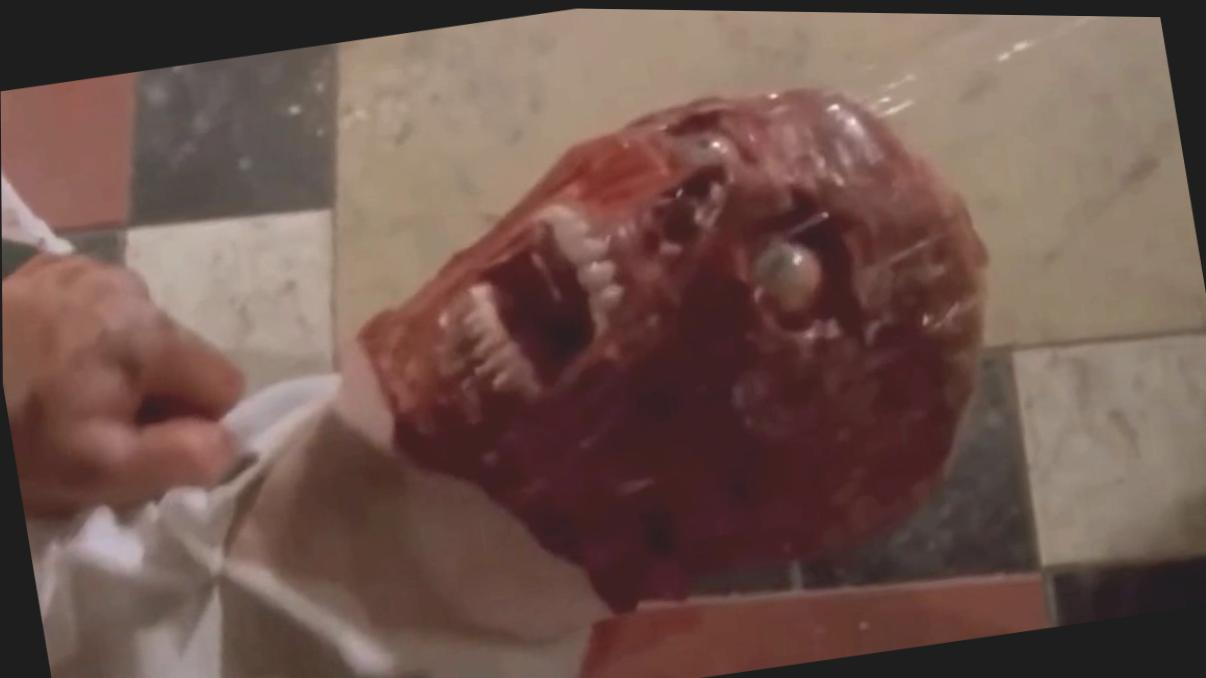Fire: (356, 84, 986, 609)
